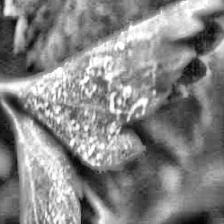Powdery Mildew Leaf: (6, 0, 224, 171), (4, 103, 109, 224)
